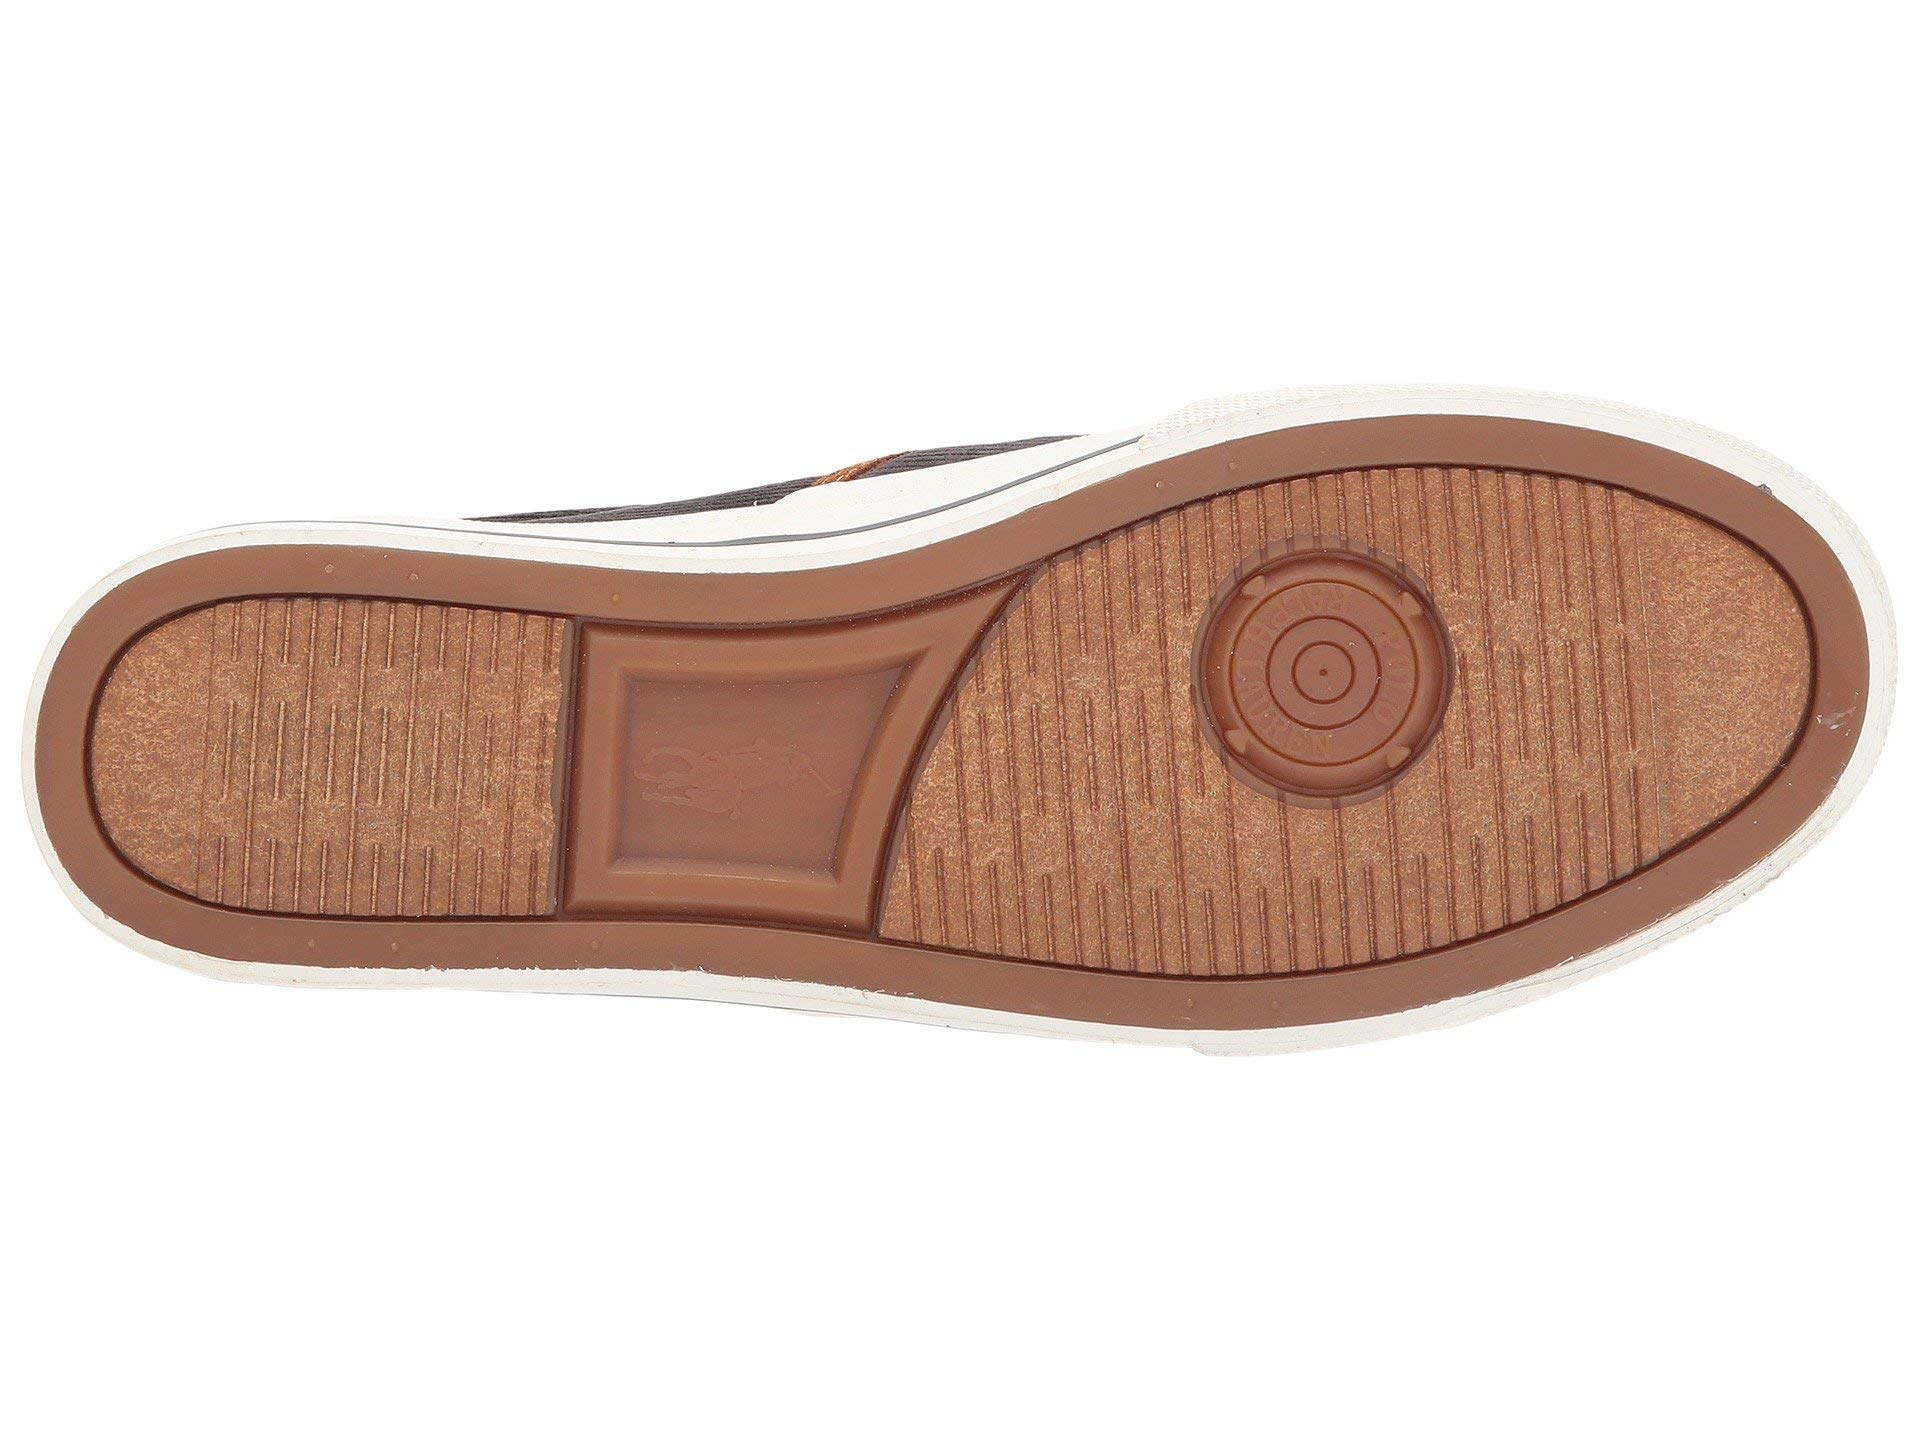circle: (1176, 548, 1459, 808)
line: (190, 649, 550, 894), (1444, 514, 1666, 905), (966, 669, 1160, 951)
quad: (582, 628, 937, 917)
text: (582, 628, 937, 917), (1176, 548, 1459, 808)
